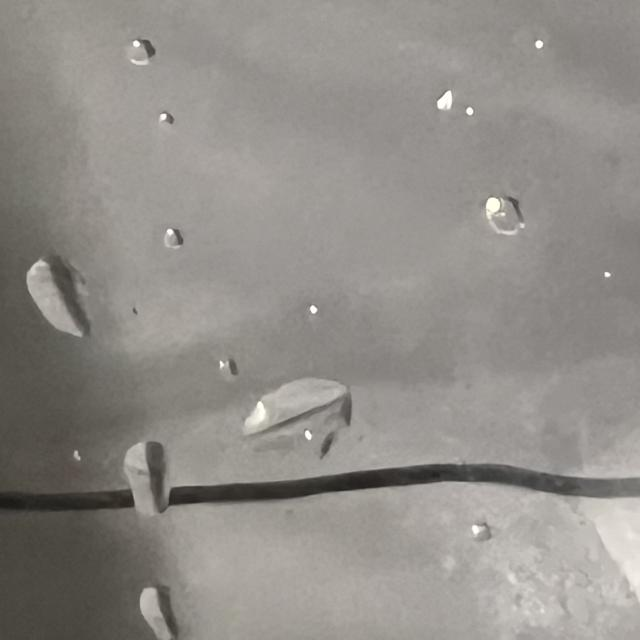raindrop: (252, 377, 366, 469), (19, 236, 100, 364), (107, 419, 180, 505), (124, 569, 198, 640), (468, 182, 538, 244), (435, 78, 496, 134), (120, 29, 172, 82), (218, 338, 266, 381), (159, 220, 206, 263), (525, 28, 572, 70), (152, 94, 192, 143), (463, 510, 495, 546)
